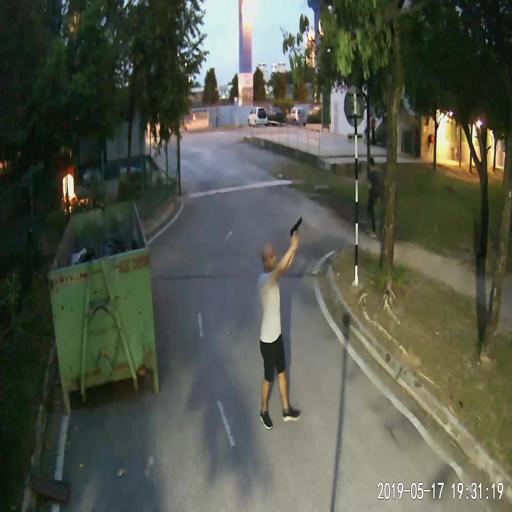pistol: (289, 216, 302, 245)
